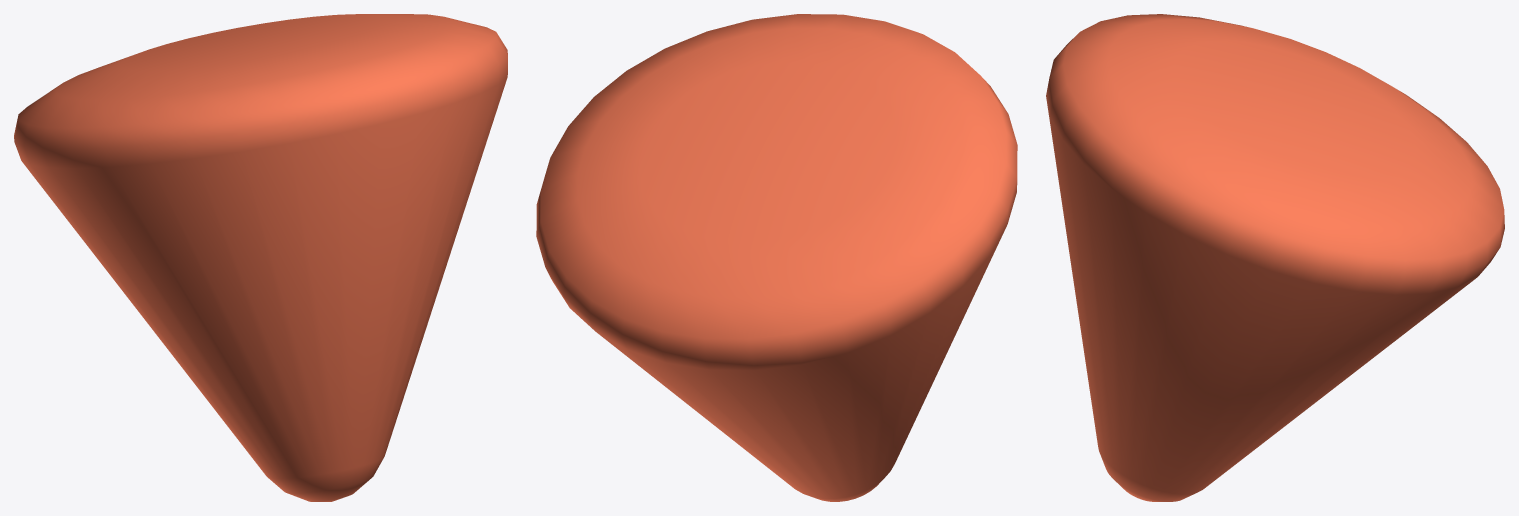
File: Cone_orange_animated.glb
3 views of the same model, side by side, from view 1: azimuth 30°, elevation 25°; view 2: azimuth 150°, elevation 25°; view 3: azimuth 270°, elevation 25° (orthographic). The views are drawn at different scales.
Visible parts, largest first — view 1: Cone; view 2: Cone; view 3: Cone.
Part boxes in pixels (x1,y1,x2,y2): Cone: (14,14,507,501); Cone: (536,14,1017,501); Cone: (1046,14,1504,501).
Bounding box in the file's own units: 1.96 × 1.95 × 1.86.
